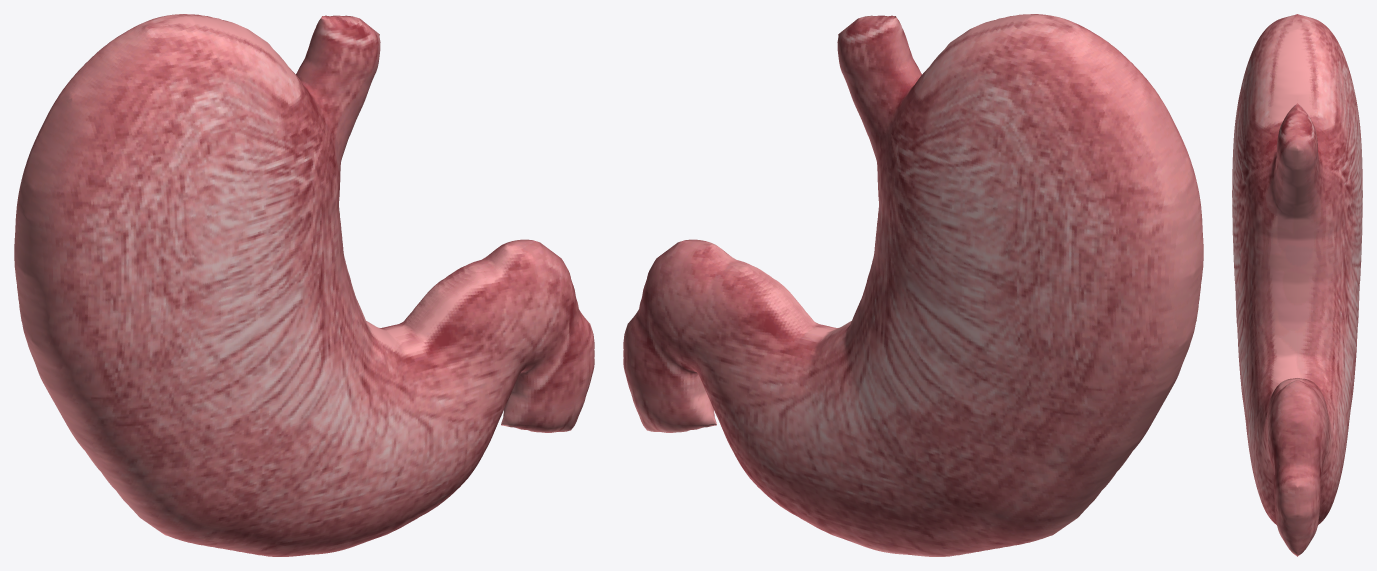
File: Organ Lambung.fbx
The picture shows the model from 3 angles, left to right: view 1: azimuth 30°, elevation 25°; view 2: azimuth 150°, elevation 25°; view 3: azimuth 270°, elevation 25°; orthographic projection. The views are drawn at different scales.
Visible parts, largest first — view 1: root; view 2: root; view 3: root.
Part boxes in pixels (x1,y1,x2,y2): root: (14,14,594,556); root: (623,14,1203,556); root: (1232,14,1362,556).
Bounding box in the file's own units: 0.2489 × 0.2369 × 0.0655.
1 material, 1 textured.
